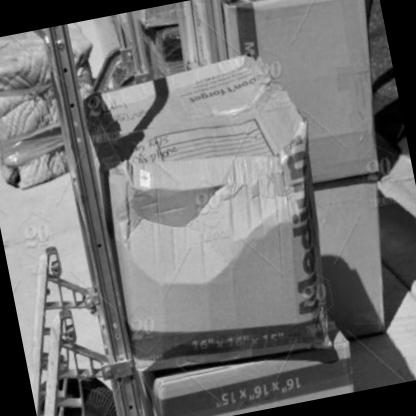box: (75, 46, 346, 388)
